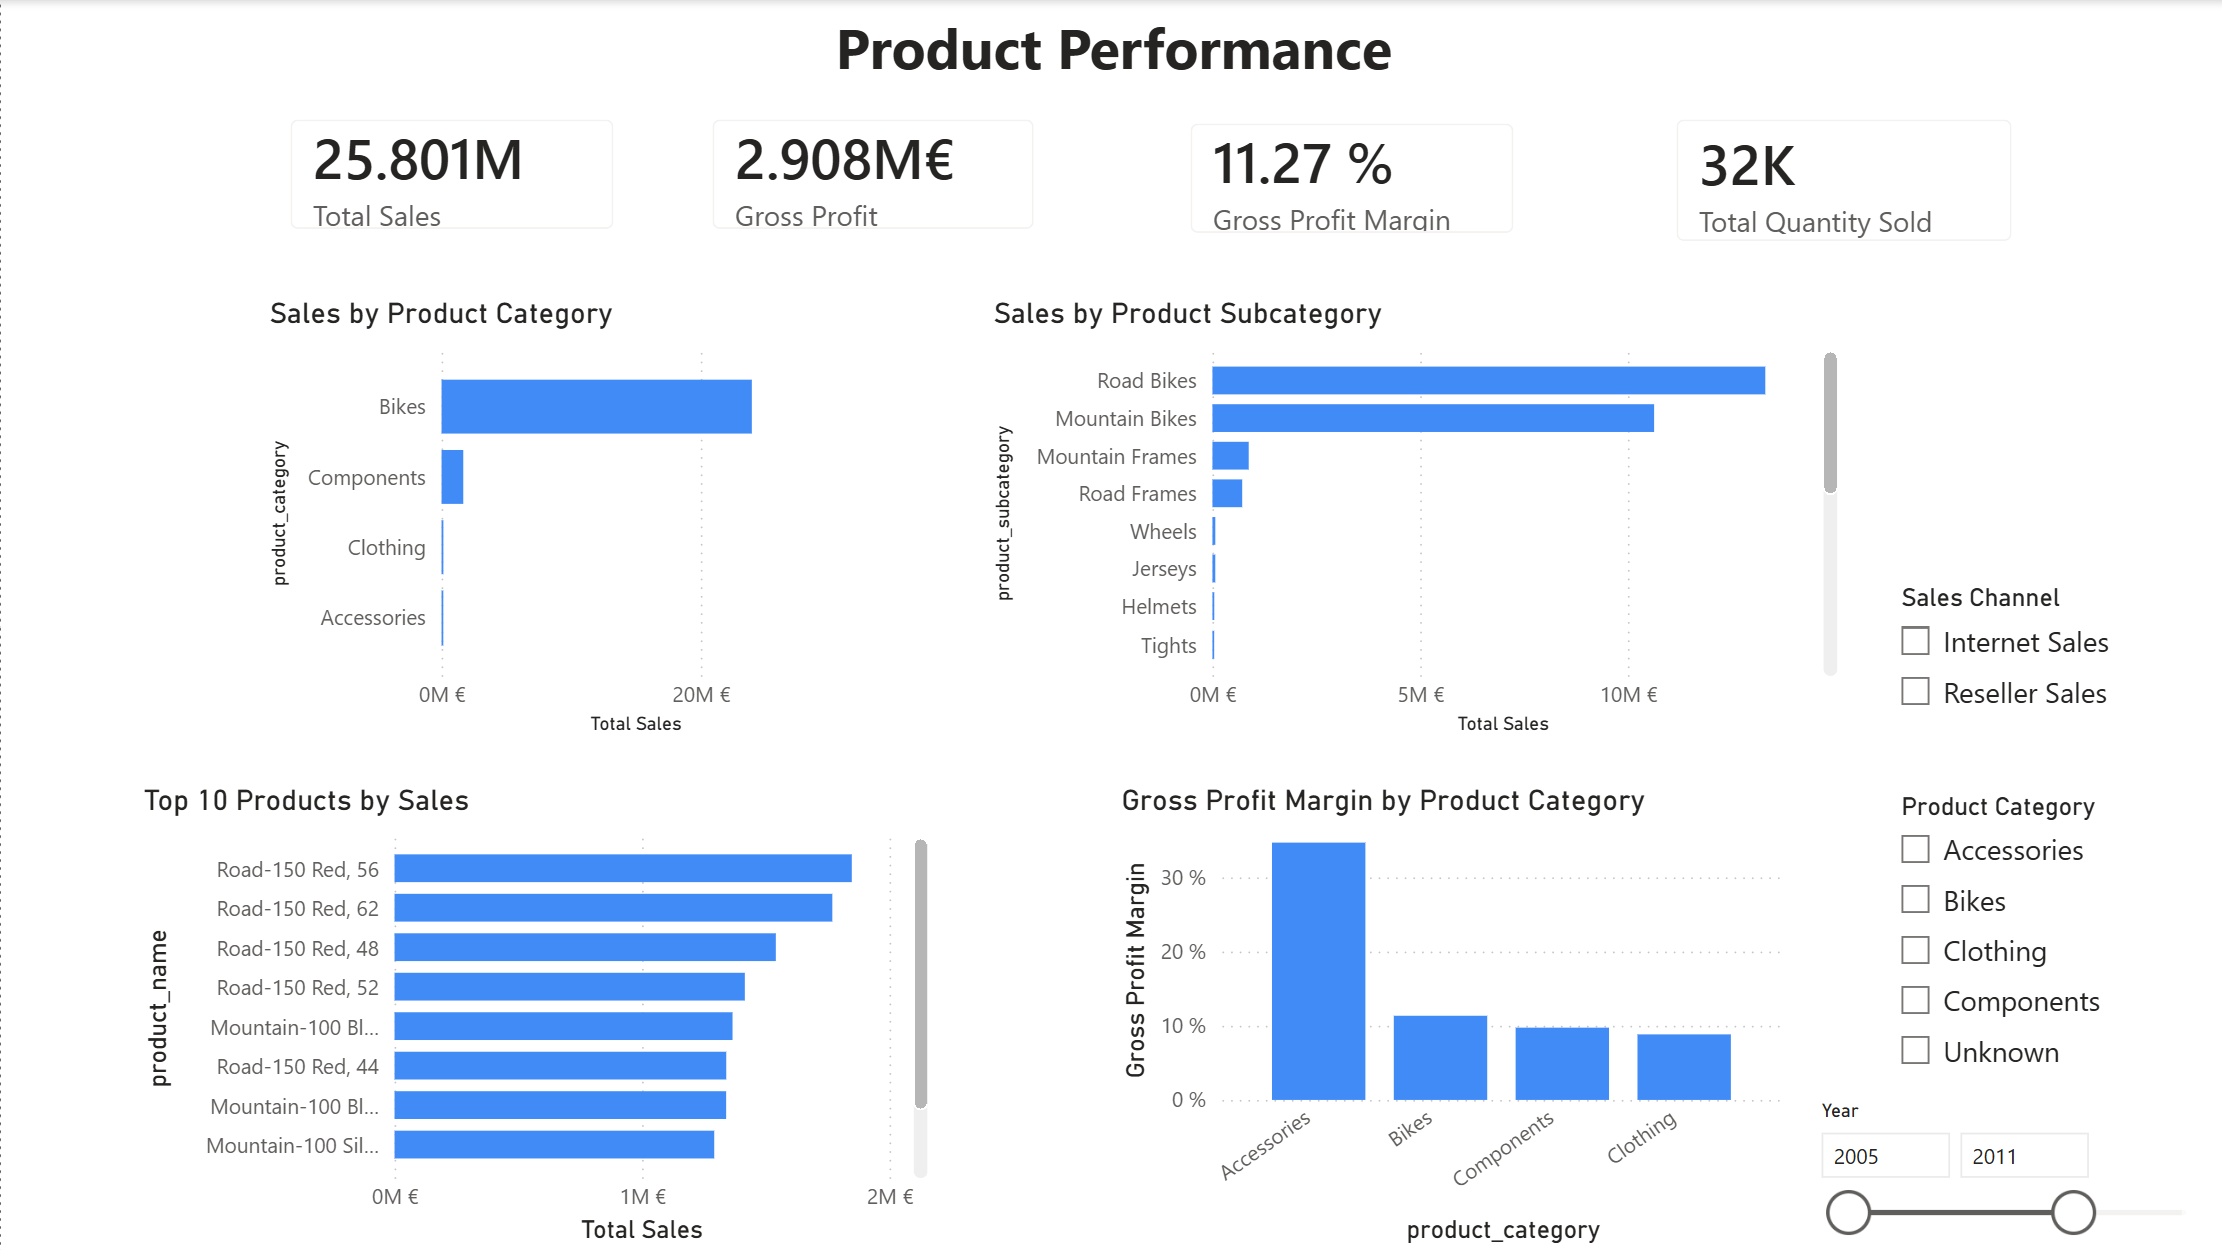

This screenshot's page, from the dashboard's own definition file:
{"tool":"powerbi","page":{"name":"Product Performance","canvas":[1280,720],"ordinal":1},"visuals":[{"type":"textbox","box":[392.7,0,496,60.6],"z":0},{"type":"slicer","fields":{"Values":["vw_dim_date.calendar_year"]},"box":[1036.1,628.3,243.9,92.3],"z":1000},{"type":"slicer","fields":{"Values":["vw_fact_sales.sales_channel"]},"box":[1081.6,330.7,198.4,96.4],"z":2000},{"type":"slicer","fields":{"Values":["vw_dim_product.product_category"]},"box":[1081.6,450.5,198.4,177.7],"z":3000},{"type":"clusteredBarChart","title":"Sales by Product Category","fields":{"Category":["vw_dim_product.product_category"],"Y":["vw_fact_sales.Total Sales"]},"box":[150.2,170.9,350,256.3],"z":4000},{"type":"clusteredBarChart","title":"Sales by Product Subcategory","fields":{"Category":["vw_dim_product.product_subcategory"],"Y":["vw_fact_sales.Total Sales"]},"box":[566.3,170.9,496,256.3],"z":5000},{"type":"clusteredBarChart","title":"Top 10 Products by Sales","fields":{"Category":["vw_dim_product.product_name"],"Y":["vw_fact_sales.Total Sales"]},"box":[77.2,450.5,461.6,270.1],"z":6000},{"type":"clusteredColumnChart","title":"Gross Profit Margin by Product Category","fields":{"Category":["vw_dim_product.product_category"],"Y":["vw_fact_sales.Gross Profit Margin"]},"box":[640.7,450.5,391.3,270.1],"z":7000},{"type":"cardVisual","fields":{"Data":["vw_fact_sales.Total Sales"]},"box":[150.2,52.4,220.5,97.8],"z":8000},{"type":"cardVisual","fields":{"Data":["vw_fact_sales.Gross Profit"]},"box":[392.7,52.4,219.1,97.8],"z":9000},{"type":"cardVisual","fields":{"Data":["vw_fact_sales.Gross Profit Margin"]},"box":[668.2,53.7,220.5,97.8],"z":10000},{"type":"cardVisual","fields":{"Data":["vw_fact_sales.Total Quantity Sold"]},"box":[947.9,52.4,227.3,104.7],"z":11000}]}

Visuals, with their boxes in screenshot pixels (x1, y1, x2, y2), scaled from the page's 1280x720 canvas onto the 2222x1250 screenshot:
textbox: [682,0,1543,105]
slicer - vw_dim_date.calendar_year: [1799,1091,2221,1249]
slicer - vw_fact_sales.sales_channel: [1878,574,2221,741]
slicer - vw_dim_product.product_category: [1878,782,2221,1091]
"Sales by Product Category" clusteredBarChart: [261,297,868,742]
"Sales by Product Subcategory" clusteredBarChart: [983,297,1844,742]
"Top 10 Products by Sales" clusteredBarChart: [134,782,935,1249]
"Gross Profit Margin by Product Category" clusteredColumnChart: [1112,782,1791,1249]
cardVisual - vw_fact_sales.Total Sales: [261,91,644,261]
cardVisual - vw_fact_sales.Gross Profit: [682,91,1062,261]
cardVisual - vw_fact_sales.Gross Profit Margin: [1160,93,1543,263]
cardVisual - vw_fact_sales.Total Quantity Sold: [1645,91,2040,273]
